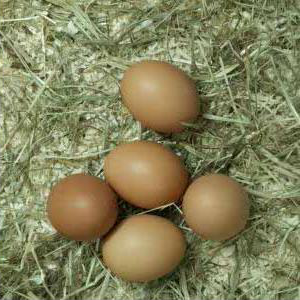egg: (101, 215, 187, 283), (121, 61, 201, 134), (106, 141, 190, 209), (48, 174, 117, 240), (183, 174, 248, 240)
